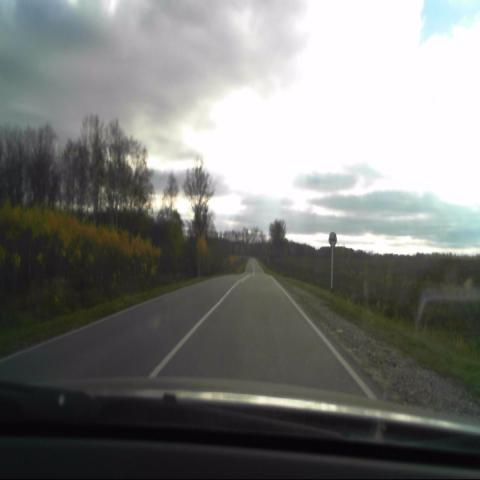3_21: (328, 230, 338, 248)
